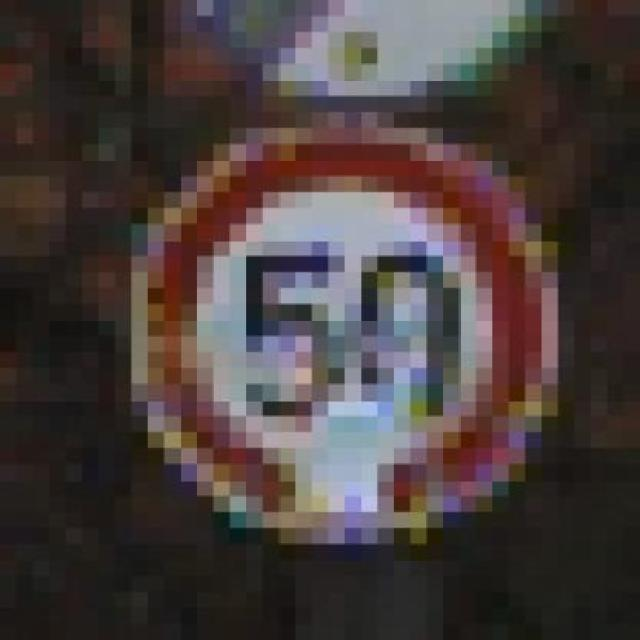forb_speed_over_50: (136, 126, 550, 528)
